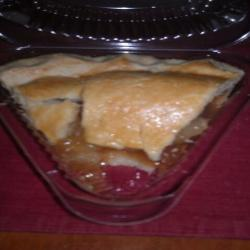apple_pie: (2, 49, 240, 191)
